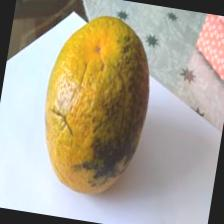Orange Rotten: (25, 0, 170, 211)
